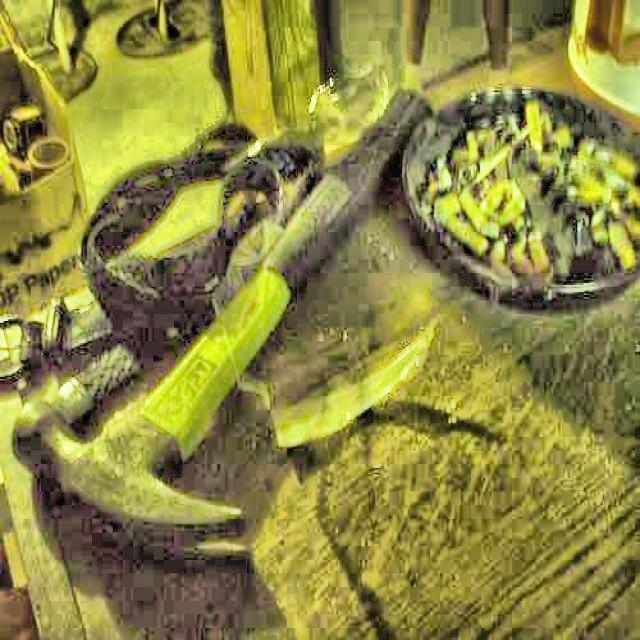hammer: (10, 85, 434, 577)
